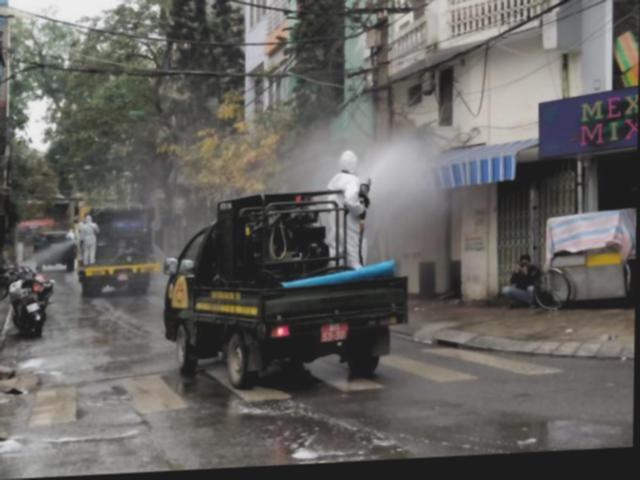License_Plate: (321, 318, 350, 344), (118, 270, 130, 281)
